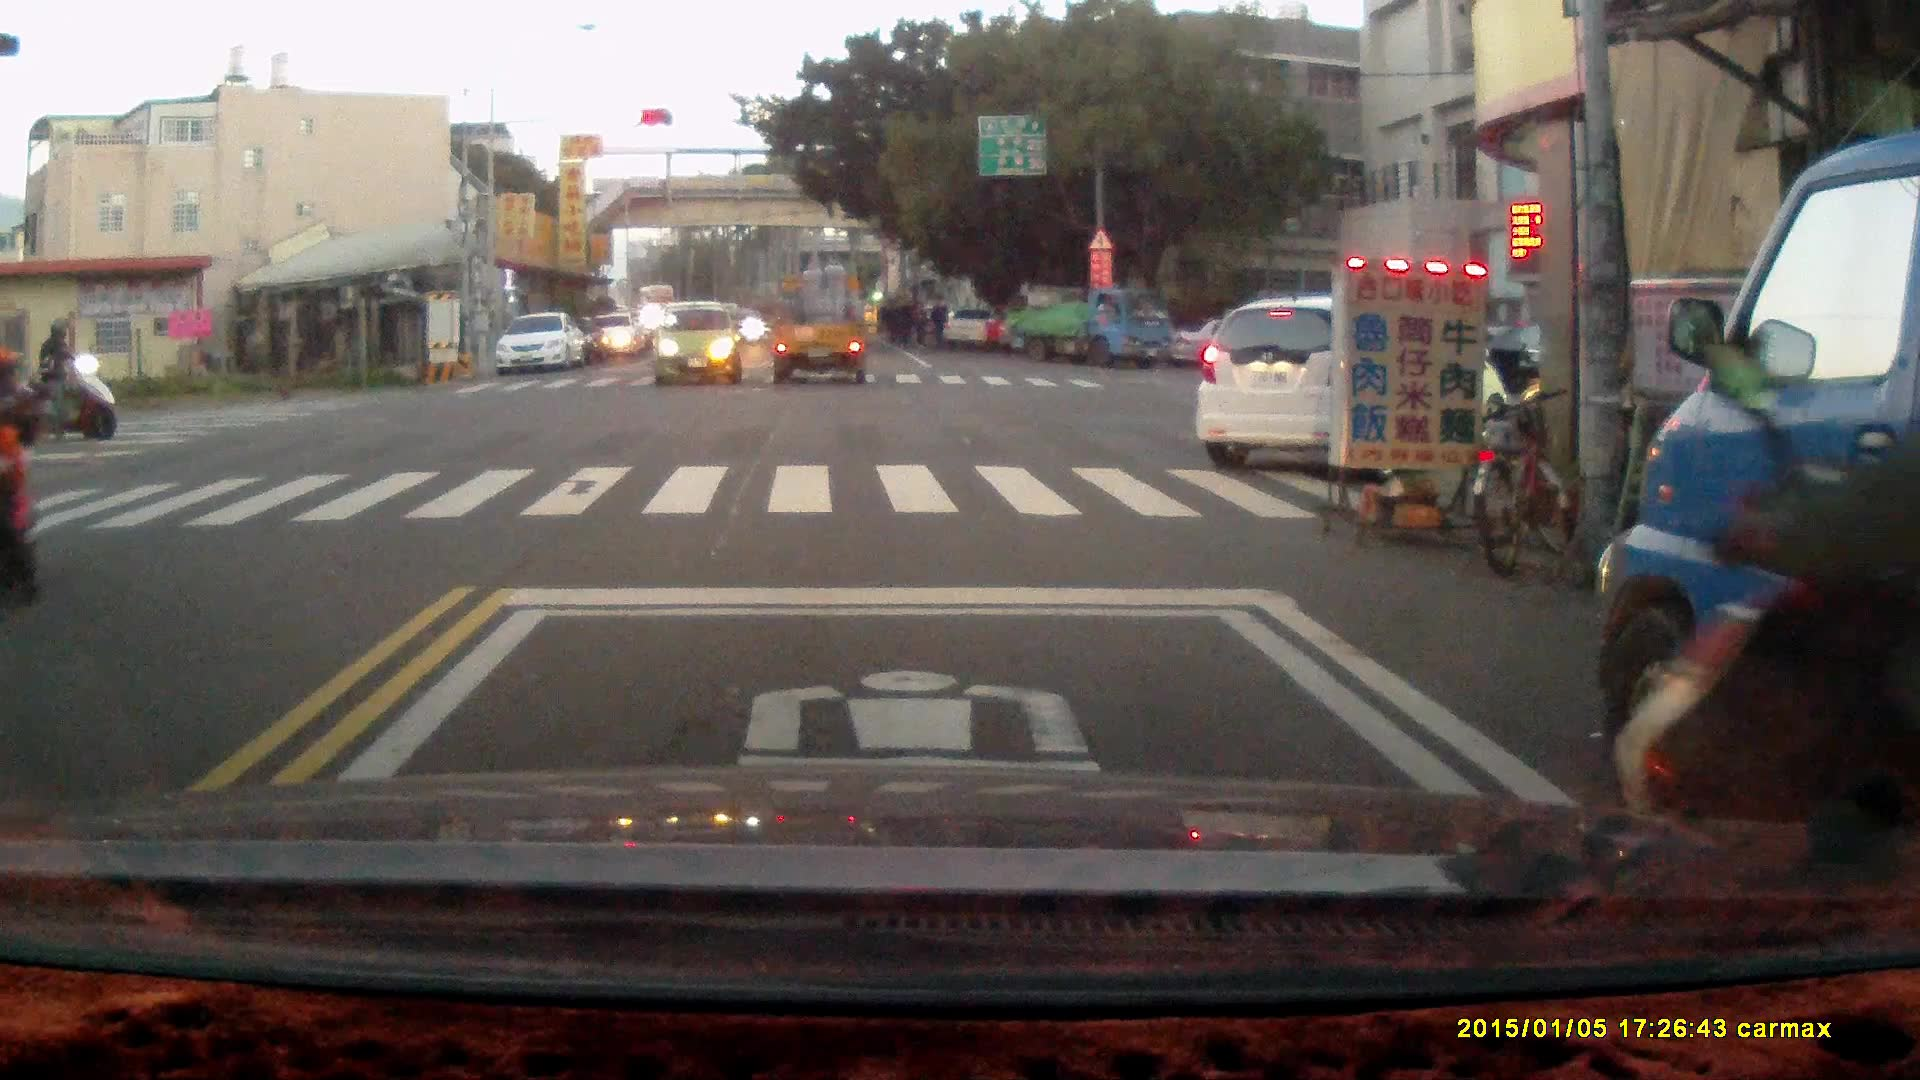rider: (1605, 276, 1920, 870), (13, 315, 117, 441)
vehicle: (1598, 132, 1920, 912), (1199, 293, 1512, 467), (1002, 284, 1174, 367), (770, 250, 874, 387), (658, 297, 748, 387), (500, 313, 587, 378), (592, 311, 642, 360)
